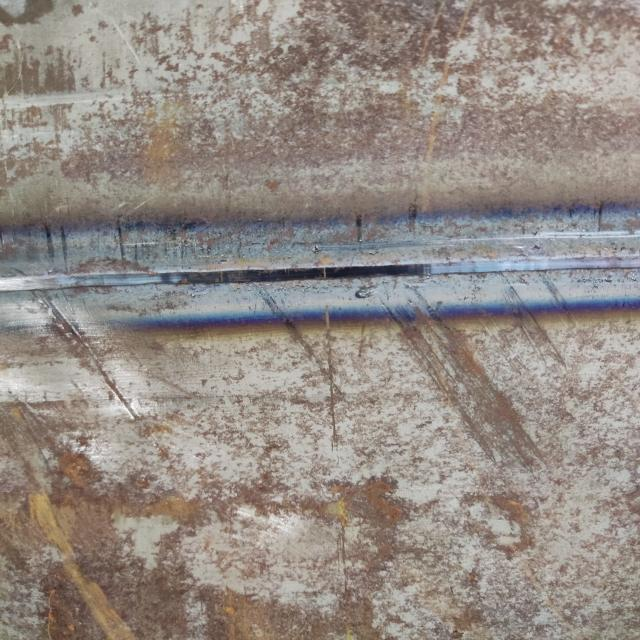seam: (0, 186, 640, 346)
